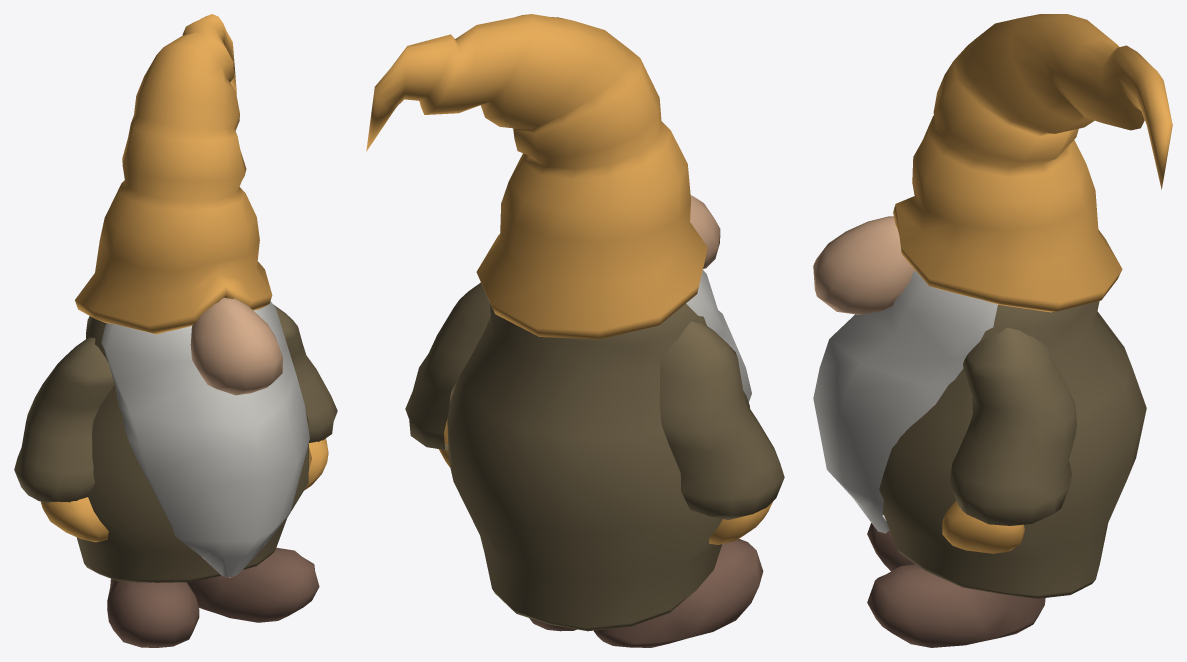
File: P_Gnome_02_LD.fbx
The picture shows the model from 3 angles, left to right: view 1: azimuth 30°, elevation 25°; view 2: azimuth 150°, elevation 25°; view 3: azimuth 270°, elevation 25°; orthographic projection. The views are drawn at different scales.
Visible parts, largest first — view 1: P_Gnome_02; view 2: P_Gnome_02; view 3: P_Gnome_02.
Boxes of the visible parts, box(x1,y1,x2,y2) form: P_Gnome_02: box(14, 14, 337, 647); P_Gnome_02: box(366, 14, 784, 647); P_Gnome_02: box(813, 14, 1172, 647).
Size of the model in its own units: 35.36 by 58.2 by 31.24.
1 material, 1 textured.
